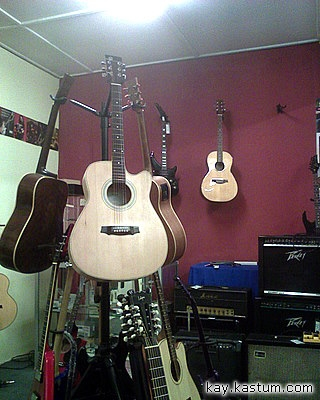guitar: (71, 54, 169, 279), (1, 70, 76, 275), (142, 266, 202, 400), (149, 100, 188, 266), (200, 99, 239, 204)
